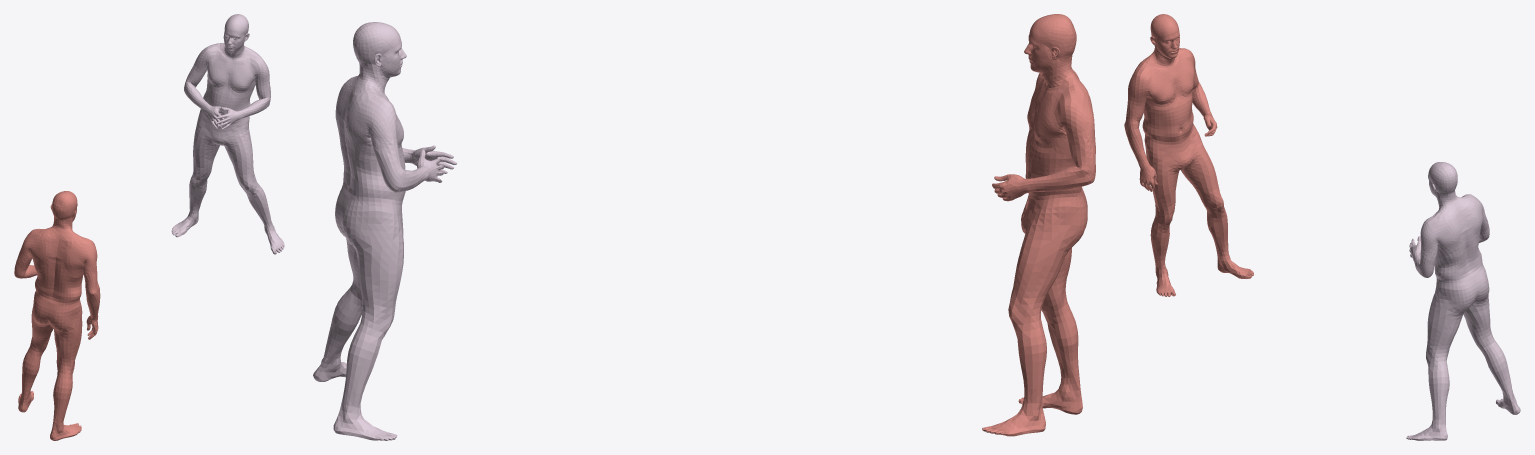
The model's file is frame_0008.glb.
3 renders of one model, left to right at view 1: azimuth 30°, elevation 25°; view 2: azimuth 150°, elevation 25°; view 3: azimuth 270°, elevation 25°, orthographic. The views are drawn at different scales.
Parts seen in each view (by area): view 1: human_1, human_2; view 2: human_1, human_2; view 3: human_1, human_2.
Part boxes in pixels (x1,y1,x2,y2): human_1: [14, 191, 100, 440]; human_2: [171, 14, 284, 254]; human_1: [982, 14, 1095, 436]; human_2: [313, 22, 457, 440]; human_1: [1124, 14, 1253, 296]; human_2: [1406, 162, 1520, 440].
Size of the model in its own units: 3.07 by 2.03 by 2.51.
